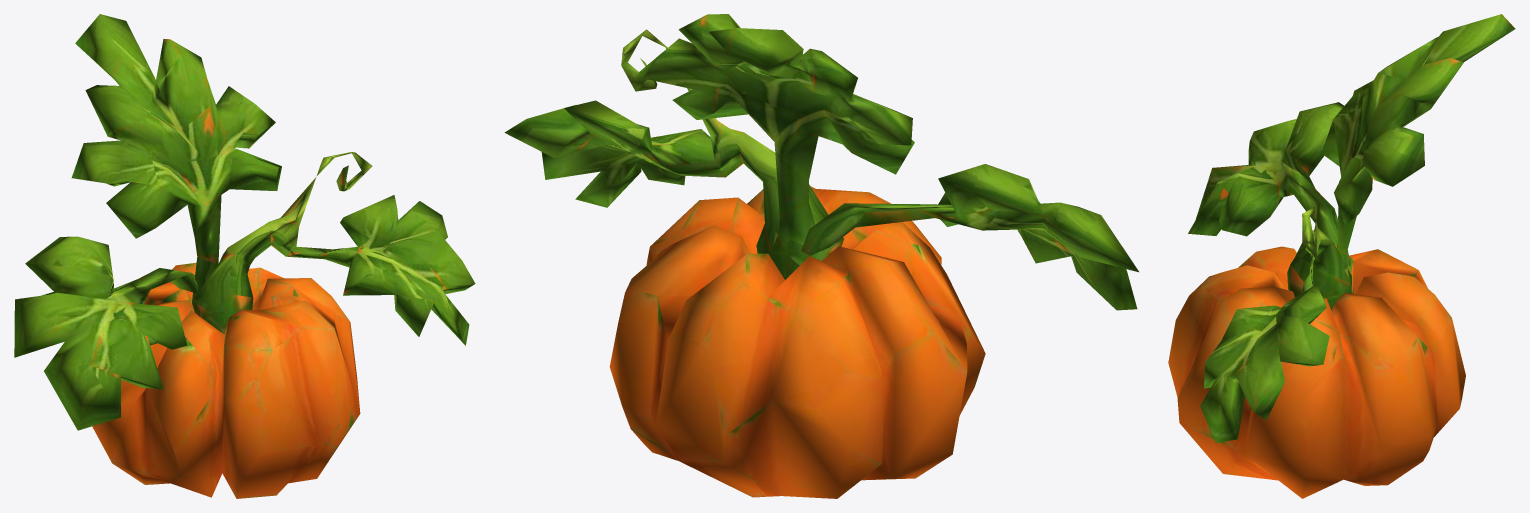
The model's file is crop_pumpkin.glb.
The picture shows the model from 3 angles, left to right: view 1: azimuth 30°, elevation 25°; view 2: azimuth 150°, elevation 25°; view 3: azimuth 270°, elevation 25°; orthographic projection. The views are drawn at different scales.
Bounding box in the file's own units: 0.9983 × 0.8532 × 0.6225.
1 material, 1 textured.
